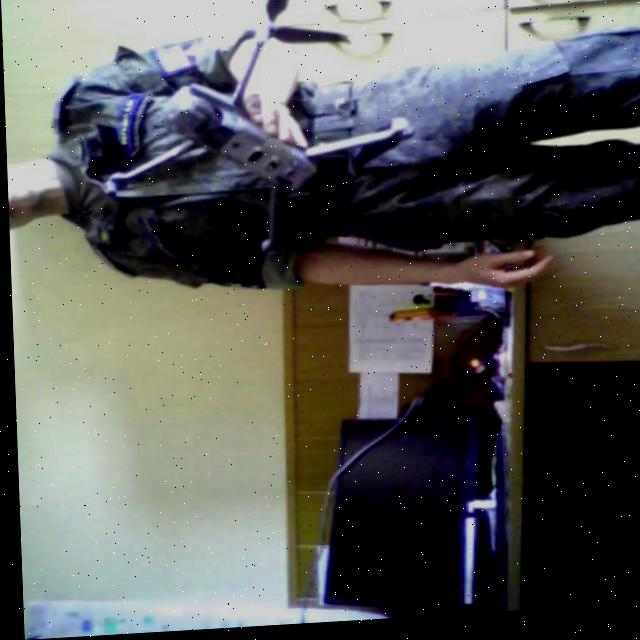drone: (93, 0, 401, 273)
